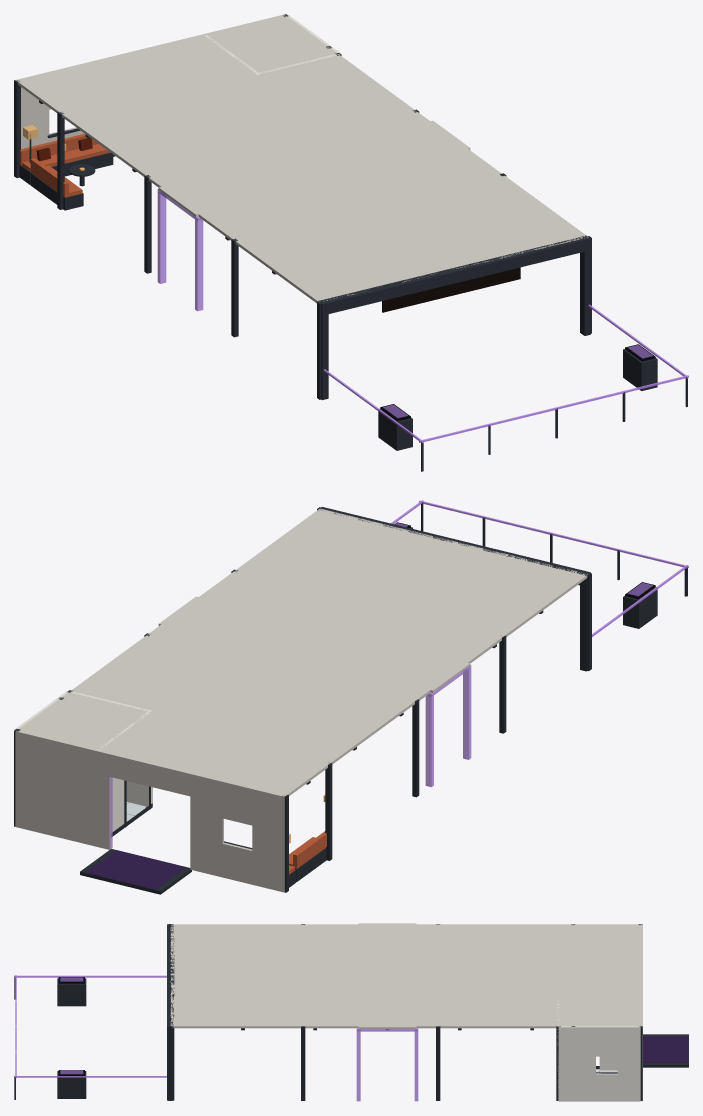
Rendered from skyfleet_bake2_03.glb.
The picture shows the model from 3 angles, top to bottom: view 1: azimuth 30°, elevation 25°; view 2: azimuth 150°, elevation 25°; view 3: azimuth 270°, elevation 25°; orthographic projection. The views are drawn at different scales.
Visible parts, largest first — view 1: baked; view 2: baked; view 3: baked.
Boxes of the visible parts, x1,y1,x2,y2 form: baked: (14, 14, 688, 471); baked: (14, 500, 688, 894); baked: (14, 923, 688, 1101).
Bounding box in the file's own units: 10.2 × 3.52 × 28.01.
